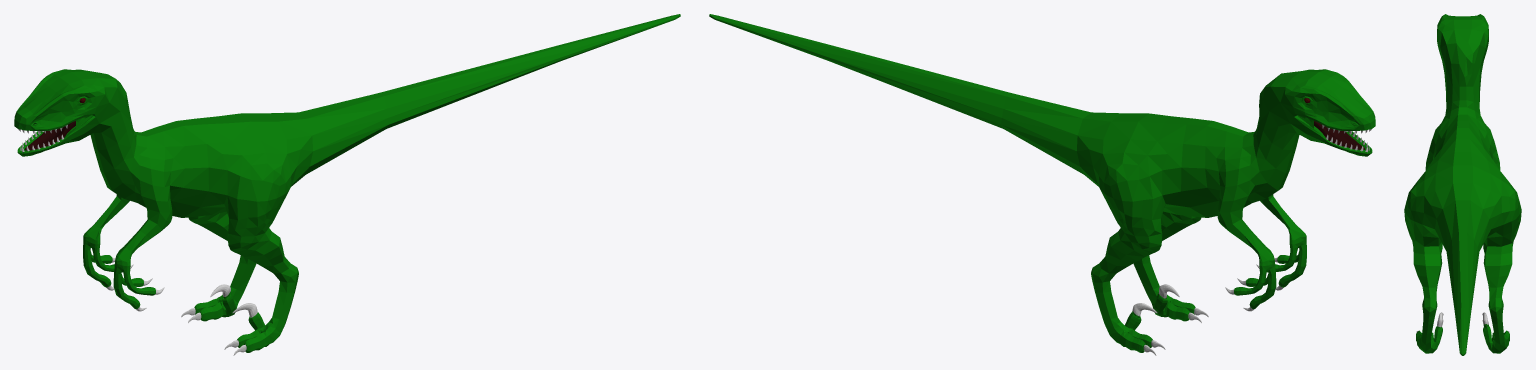
The model's file is dino.obj.
3 renders of one model, left to right at view 1: azimuth 30°, elevation 25°; view 2: azimuth 150°, elevation 25°; view 3: azimuth 270°, elevation 25°, orthographic. The views are drawn at different scales.
Parts seen in each view (by area): view 1: Dinosaur_Cube.001, Claws_Cube.002; view 2: Dinosaur_Cube.001, Claws_Cube.002, Tongue_Cube.004; view 3: Dinosaur_Cube.001, Claws_Cube.002.
Boxes of the visible parts, x1,y1,x2,y2 form: Dinosaur_Cube.001: [14, 14, 680, 352]; Claws_Cube.002: [106, 257, 257, 355]; Dinosaur_Cube.001: [709, 14, 1375, 352]; Claws_Cube.002: [1132, 257, 1283, 355]; Tongue_Cube.004: [1314, 121, 1365, 149]; Dinosaur_Cube.001: [1404, 14, 1521, 355]; Claws_Cube.002: [1416, 312, 1509, 332].
Bounding box in the file's own units: 10.95 × 4.66 × 1.91.
